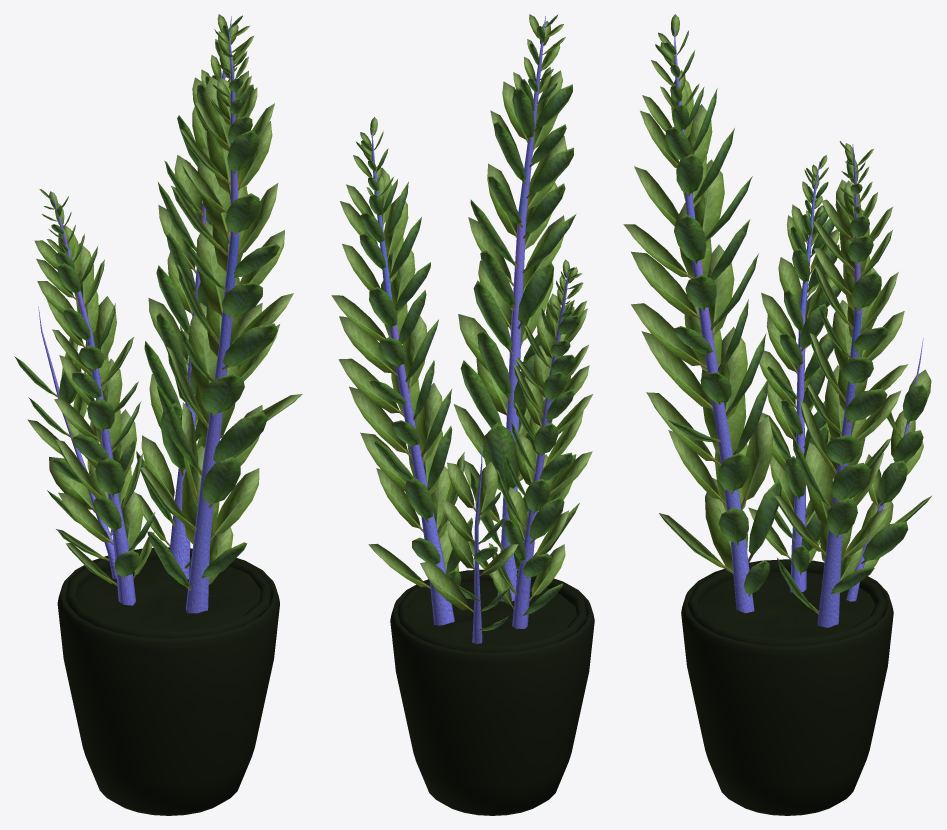
Rendered from Rigged_Indoor_Plant_IK.obj.
The picture shows the model from 3 angles, left to right: view 1: azimuth 30°, elevation 25°; view 2: azimuth 150°, elevation 25°; view 3: azimuth 270°, elevation 25°; orthographic projection. The views are drawn at different scales.
Visible parts, largest first — view 1: Circle.001_Circle.002, Circle.004; view 2: Circle.001_Circle.002, Circle.004; view 3: Circle.001_Circle.002, Circle.004.
Boxes of the visible parts, x1=… form: Circle.001_Circle.002: x1=14, y1=14, x2=302, y2=613; Circle.004: x1=57, y1=547, x2=279, y2=815; Circle.001_Circle.002: x1=331, y1=14, x2=592, y2=643; Circle.004: x1=390, y1=569, x2=594, y2=815; Circle.001_Circle.002: x1=623, y1=14, x2=931, y2=627; Circle.004: x1=681, y1=559, x2=893, y2=815.
Size of the model in its own units: 2.15 by 6.89 by 2.5.
